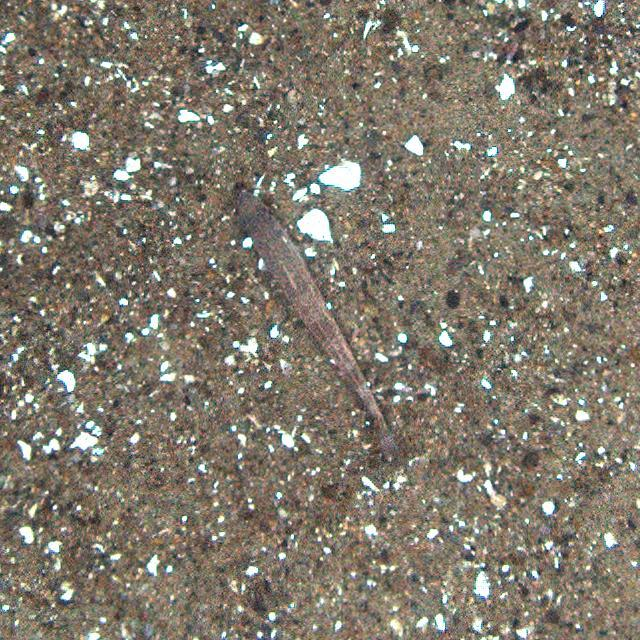roundfish: (226, 181, 401, 467)
